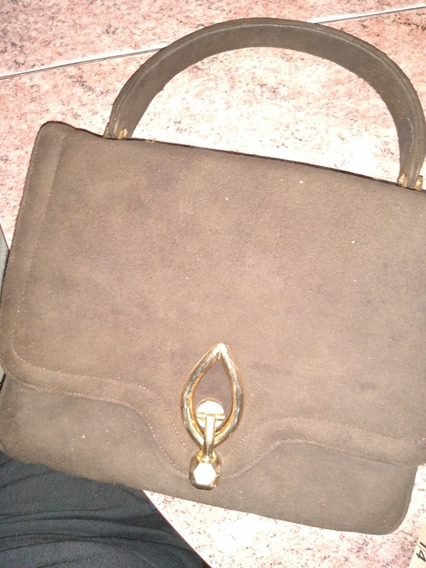cartera: (4, 16, 426, 537)
